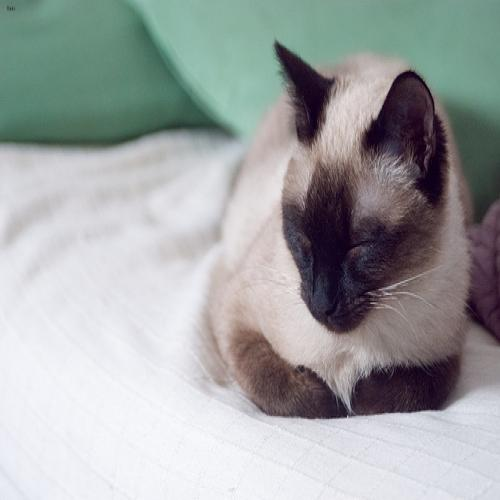siamese: (256, 22, 452, 349)
